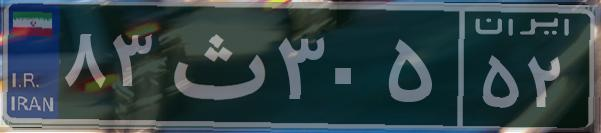0: (330, 28, 385, 110)
2: (525, 38, 570, 115)
3: (273, 28, 330, 110), (110, 28, 158, 105)
5: (385, 28, 445, 110), (475, 38, 525, 113)
8: (57, 26, 110, 107)
ث: (158, 15, 273, 115)
